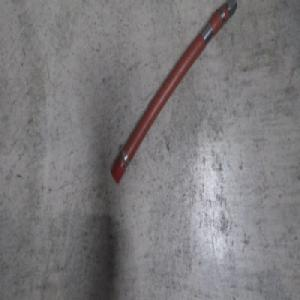Hose: (108, 1, 239, 186)
